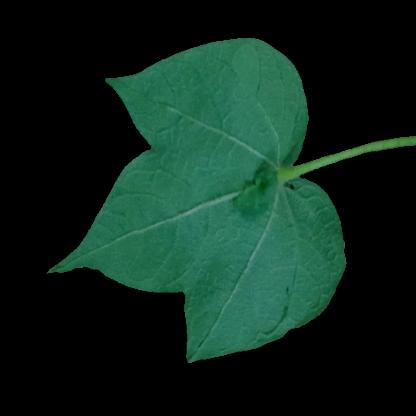curl_stage2: (117, 174, 211, 272), (206, 244, 300, 332), (156, 63, 230, 162), (301, 193, 333, 303)
leaf_enation: (214, 134, 302, 234)
